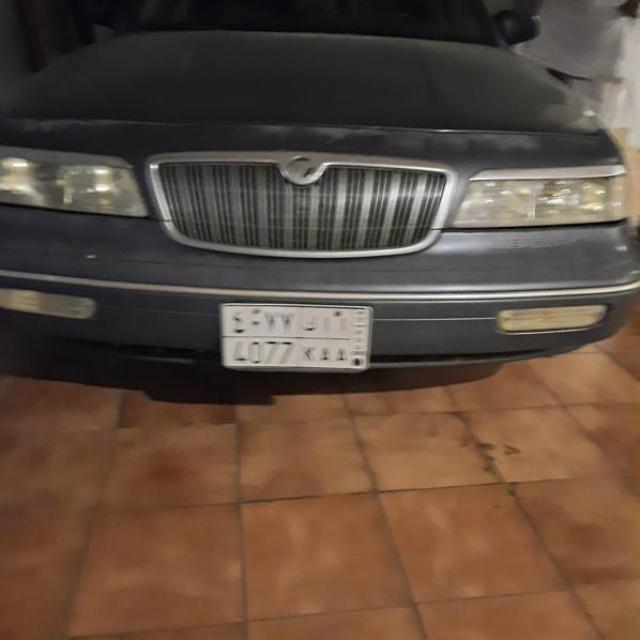license_plate: (222, 304, 372, 370)
